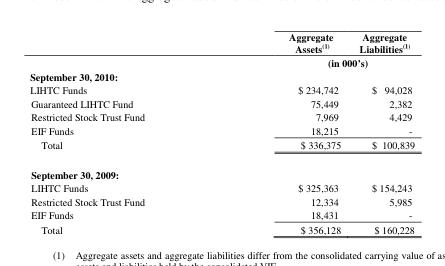table: (29, 29, 413, 235)
table column: (29, 29, 216, 235), (216, 29, 349, 235), (349, 29, 413, 235)
table column header: (29, 29, 413, 69)
table projected row header: (29, 159, 413, 180), (29, 69, 413, 82)
table row: (29, 29, 413, 55), (29, 137, 413, 159), (29, 159, 413, 180), (29, 55, 413, 69), (29, 95, 413, 109), (29, 109, 413, 123), (29, 123, 413, 137), (29, 180, 413, 194), (29, 207, 413, 221), (29, 221, 413, 235), (29, 69, 413, 82), (29, 82, 413, 95), (29, 194, 413, 207)
table spanning cell: (216, 55, 413, 69)
